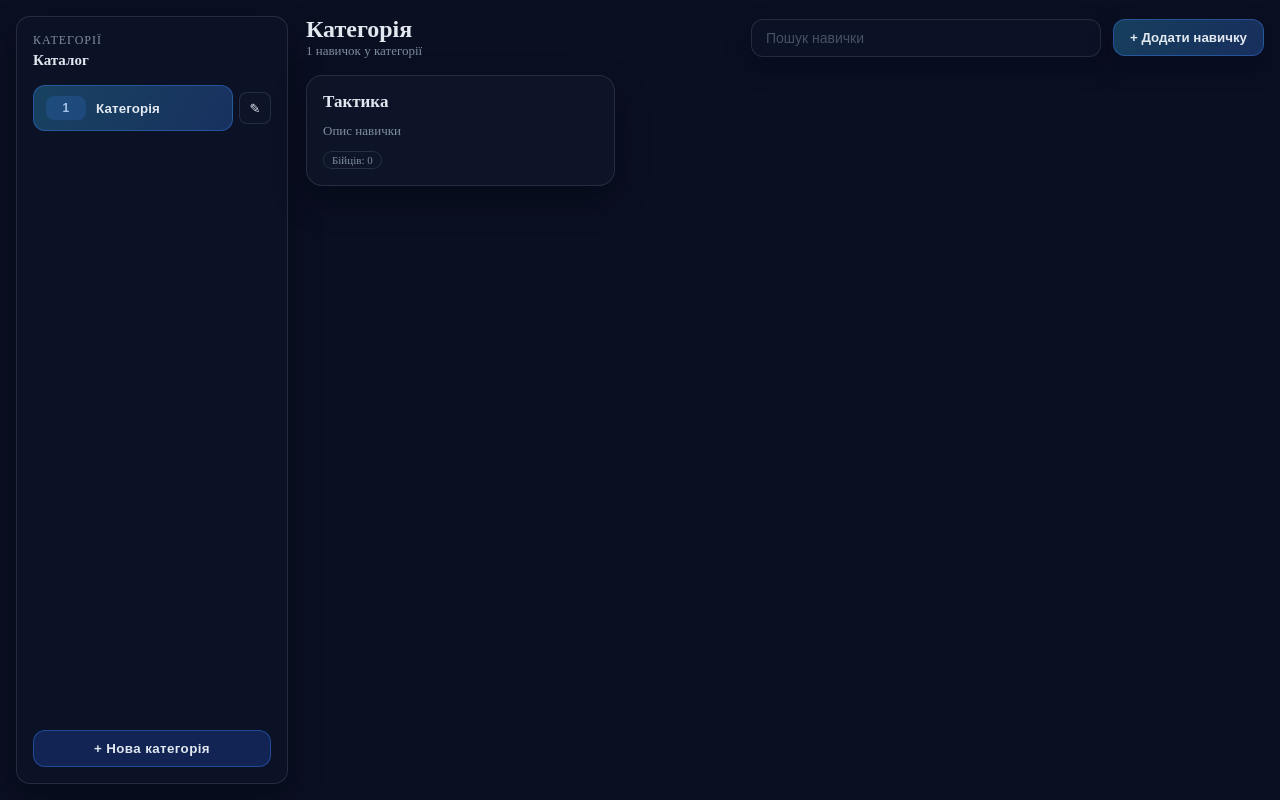
Test: Skills page › shows fallback stats when no fighters own the skill
Click the text "Тактика".
click(356, 102)  # box [323, 92, 388, 111]
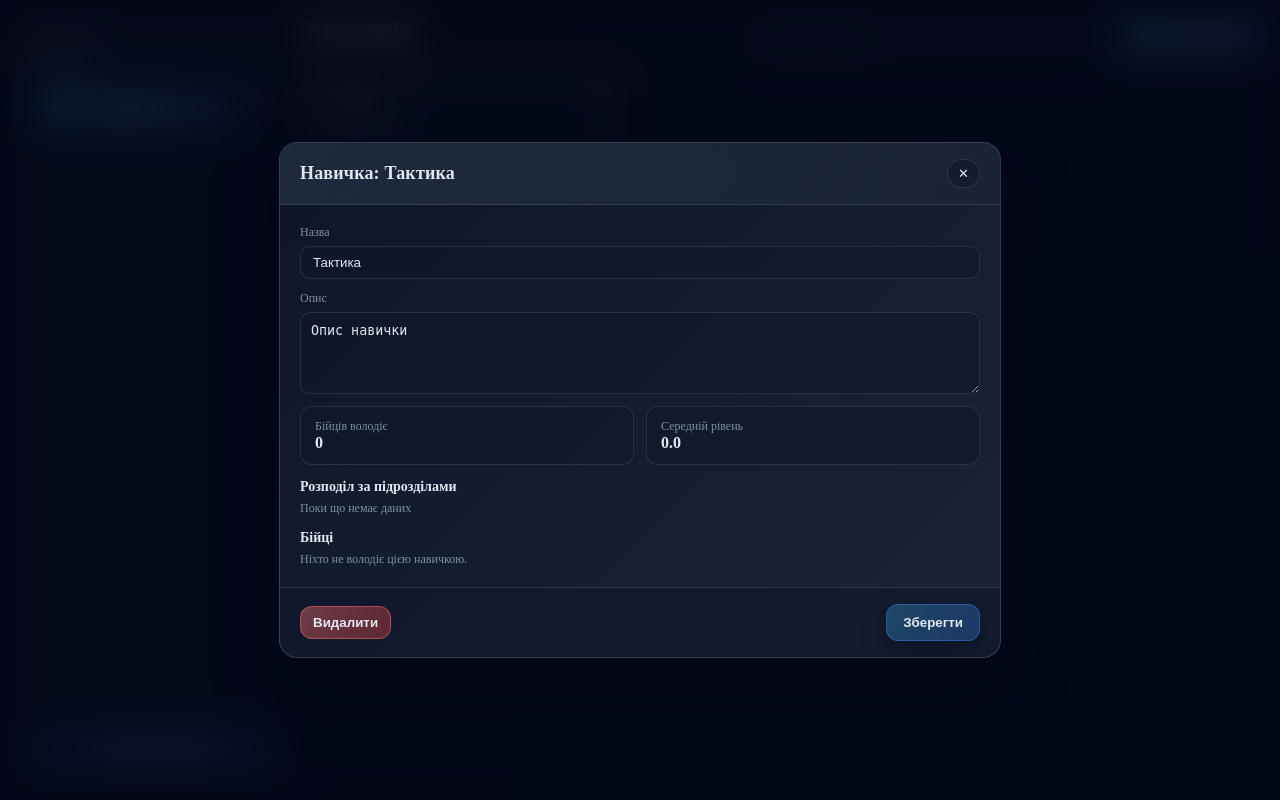
Expected: the text "Навичка: Тактика" is shown, [300, 163, 455, 183]
Expected: the text "Поки що немає даних" is shown, [300, 501, 411, 516]
Expected: the text "Ніхто не володіє цією навичкою." is shown, [300, 552, 467, 566]
